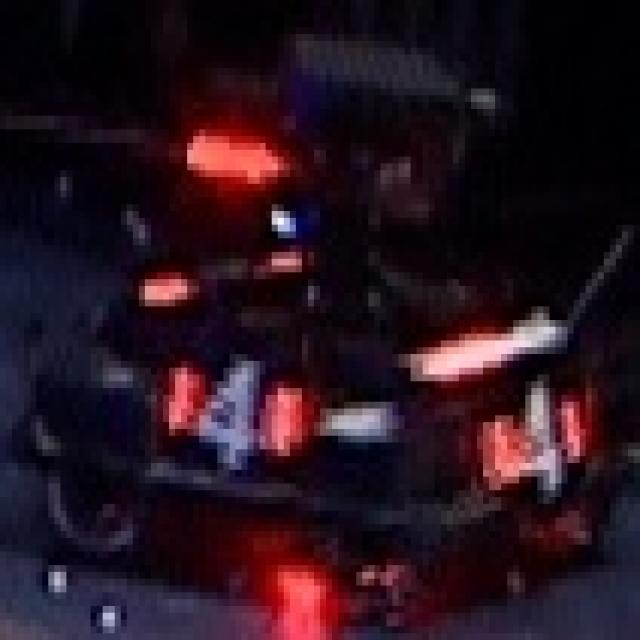R4: (157, 354, 302, 477), (477, 374, 580, 504)
